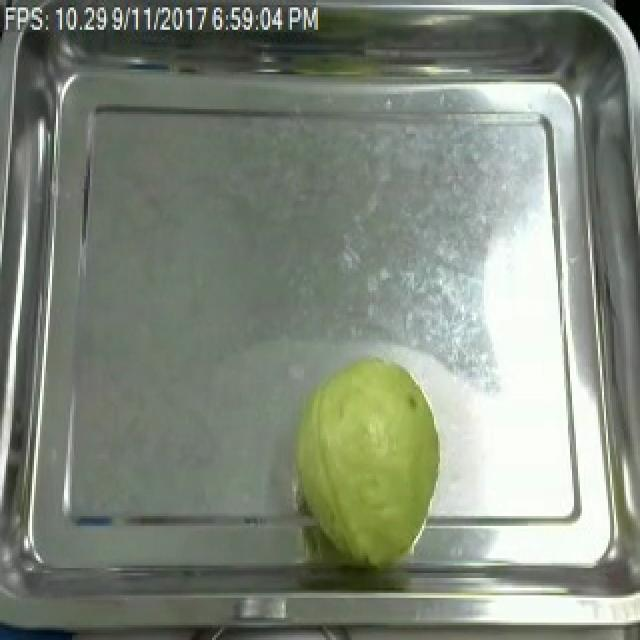Fruit: (274, 347, 450, 563)
